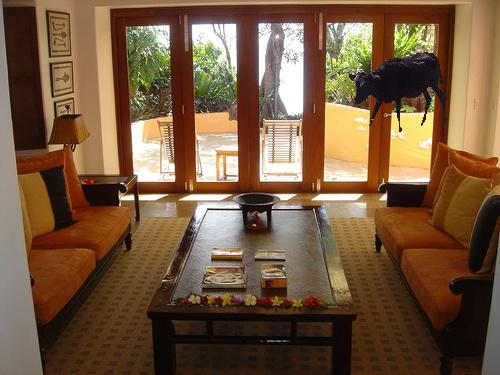tampered: (350, 53, 447, 132)
